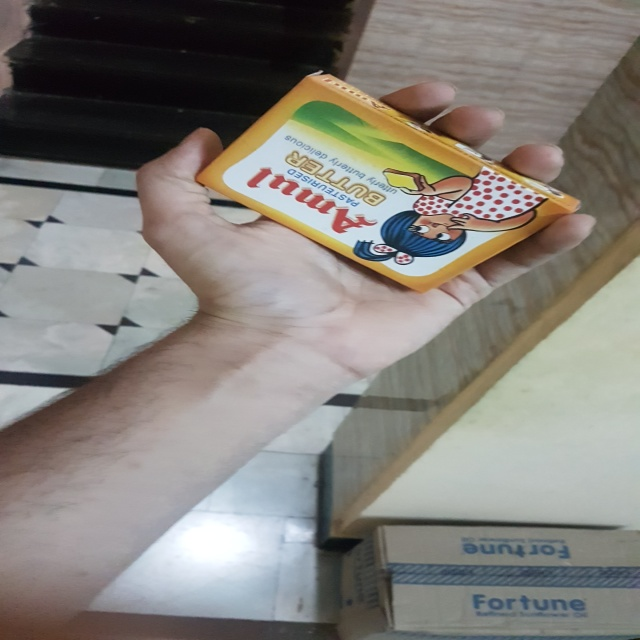butter: (184, 70, 584, 306)
